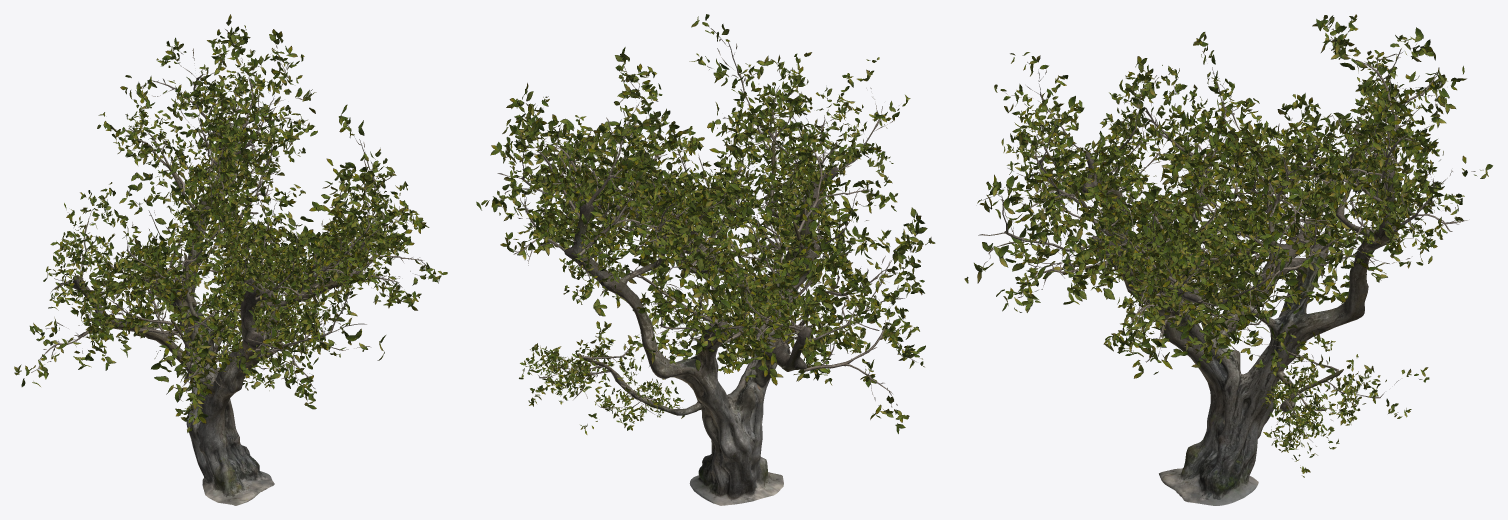
File: arv1-perto.glb
3 renders of one model, left to right at view 1: azimuth 30°, elevation 25°; view 2: azimuth 150°, elevation 25°; view 3: azimuth 270°, elevation 25°, orthographic. The views are drawn at different scales.
Visible parts, largest first — view 1: island_tree_01_LOD0; view 2: island_tree_01_LOD0; view 3: island_tree_01_LOD0.
Part boxes in pixels (box(x1,y1,x2,y2)): island_tree_01_LOD0: box(14, 14, 447, 505); island_tree_01_LOD0: box(476, 14, 935, 505); island_tree_01_LOD0: box(964, 14, 1492, 505).
Size of the model in its own units: 4.78 by 4.99 by 4.78.
3 materials, 3 textured.
